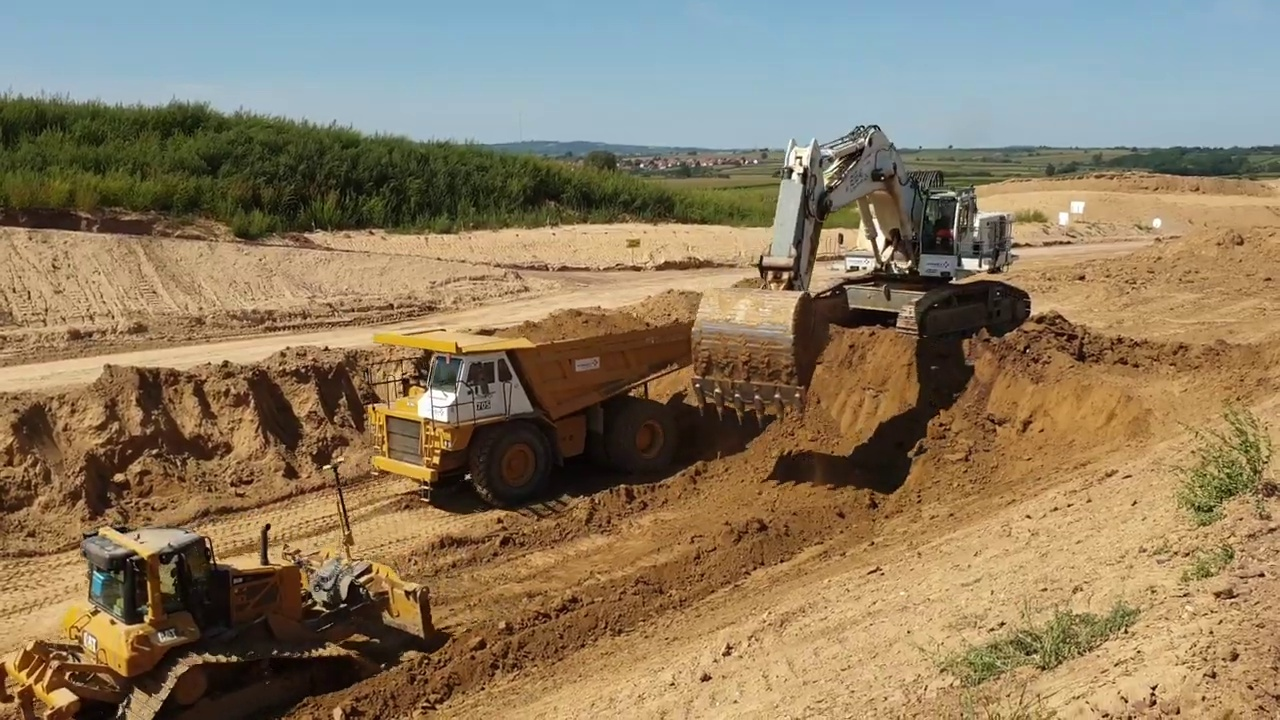bulldozer: (2, 459, 438, 720)
excavator: (691, 119, 1037, 424)
truck: (366, 302, 706, 513)
